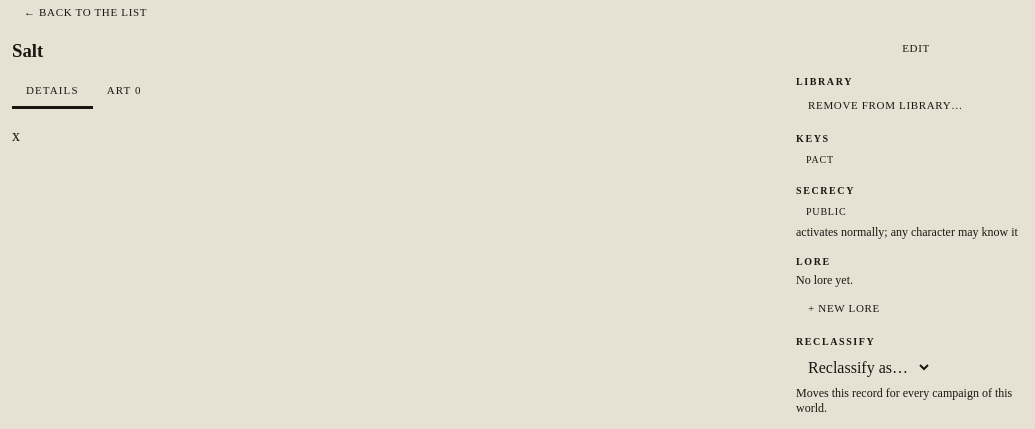
Scenario: an empty location keeps Details clean and makes Add images available from Art
Expected: the button "Add images" is not shown
Click the tab "Art 0". click: (124, 92)
box: [93, 74, 156, 109]
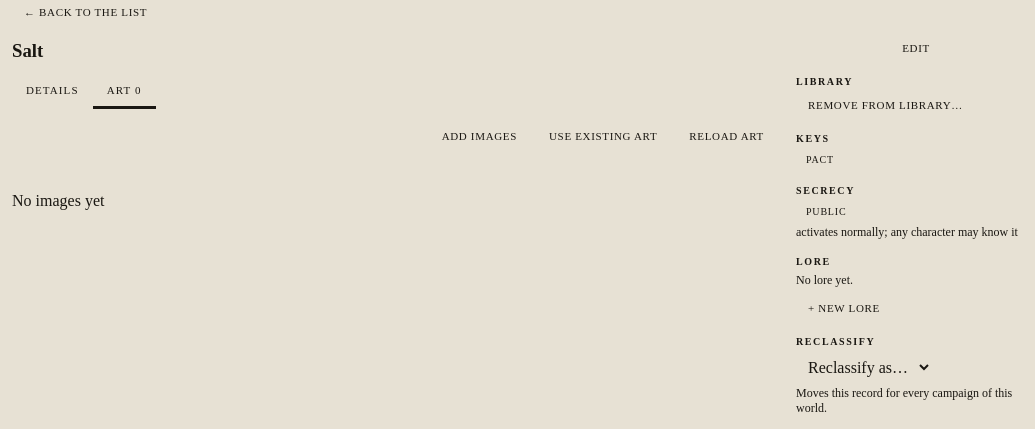
Now the text "No images yet" is shown, box [12, 192, 104, 209]
Now the button "Add images" is shown, box [430, 124, 529, 148]
